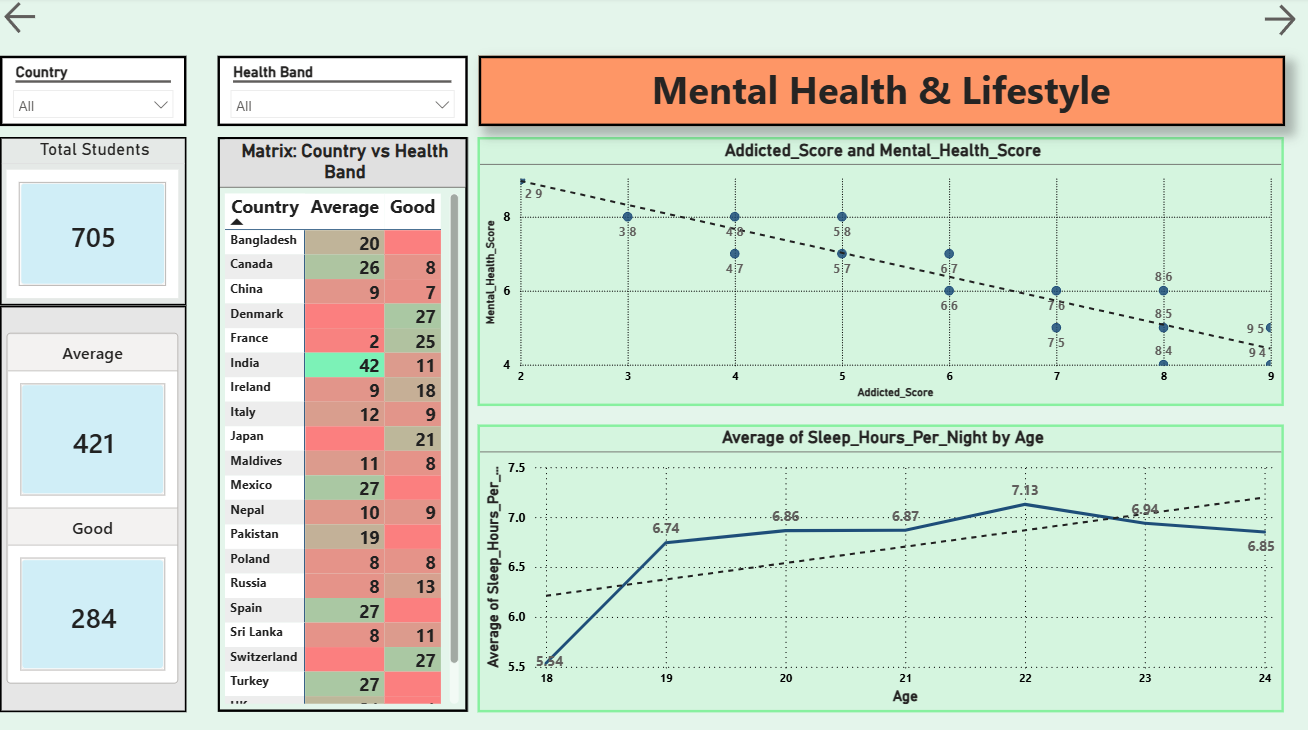

The dashboard page shown, as its layout file describes it:
{"tool":"powerbi","page":{"name":" Mental Health & Lifestyle","canvas":[1280,720],"ordinal":2},"visuals":[{"type":"scatterChart","fields":{"Y":["Student Details.Mental_Health_Score"],"X":["Student Details.Addicted_Score"]},"box":[467.1,137,788.7,262.9],"z":0},{"type":"lineChart","fields":{"Category":["Student Details.Age"],"Y":["Avg(Student Details.Sleep_Hours_Per_Night)"]},"box":[467.1,418.2,788.7,281.3],"z":1000},{"type":"slicer","fields":{"Values":["Student Details.Country"]},"box":[0,57.5,182.2,68.5],"z":2000},{"type":"textbox","box":[468.3,57.5,788.7,68.5],"z":3000},{"type":"actionButton","box":[0,0,59.9,40.4],"z":4000},{"type":"actionButton","box":[1231.4,2.4,48.9,40.4],"z":5000},{"type":"pivotTable","title":"Matrix: Country vs Health Band","fields":{"Rows":["Student Details.Country"],"Columns":["Student Details.Health Band"],"Values":["Student Details.Student Count"]},"box":[212.8,137,244.6,562.5],"z":6000},{"type":"cardVisual","fields":{"Rows":["Student Details.Health Band"],"Data":["Student Details.Student Count"]},"box":[0,302,182.2,397.4],"z":7000},{"type":"cardVisual","title":"Total Students","fields":{"Data":["CountNonNull(Student Details.Student_ID)"]},"box":[0,137,182.2,165.1],"z":8000},{"type":"slicer","fields":{"Values":["Student Details.Health Band"]},"box":[212.8,57.5,244.6,68.5],"z":9000}]}

Visuals, with their boxes in screenshot pixels (x1, y1, x2, y2), scaled from the page's 1280x720 canvas onto the 1308x730 screenshot:
scatterChart - Student Details.Mental_Health_Score x Student Details.Addicted_Score: detection(477, 139, 1283, 405)
lineChart - Student Details.Age x Avg(Student Details.Sleep_Hours_Per_Night): detection(477, 424, 1283, 709)
slicer - Student Details.Country: detection(0, 58, 186, 128)
textbox: detection(479, 58, 1284, 128)
actionButton: detection(0, 0, 61, 41)
actionButton: detection(1258, 2, 1307, 43)
"Matrix: Country vs Health Band" pivotTable: detection(217, 139, 467, 709)
cardVisual - Student Details.Health Band x Student Details.Student Count: detection(0, 306, 186, 709)
"Total Students" cardVisual: detection(0, 139, 186, 306)
slicer - Student Details.Health Band: detection(217, 58, 467, 128)
